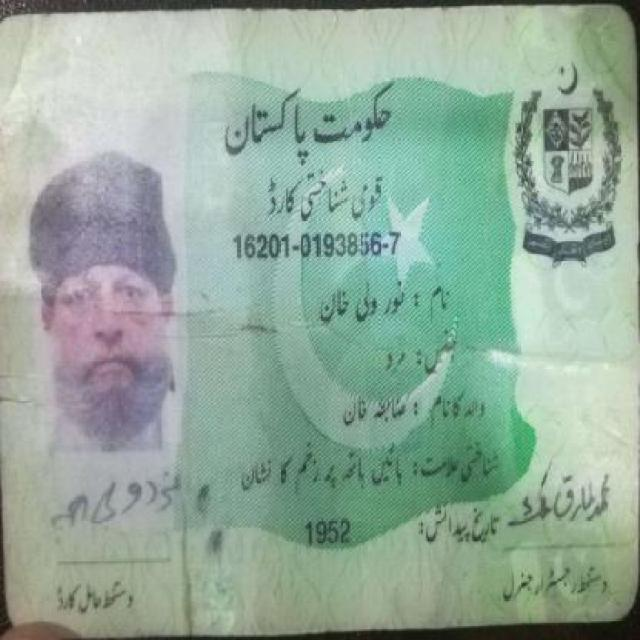Front: (3, 25, 634, 617)
